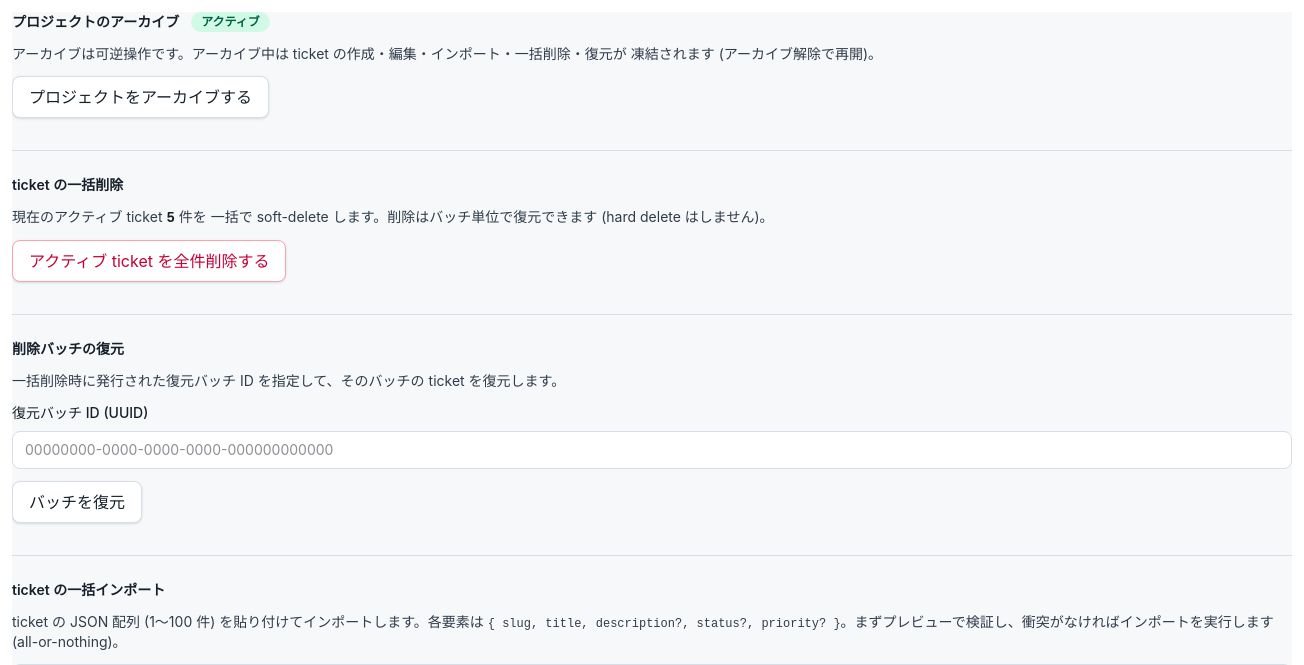
DataManagementPanel (Q-2〜Q-4 / ADR-00037) › requires a second confirmation step before archiving (two-stage)
Expected: the button "アーカイブを確定" is not shown
Click the button "プロジェクトをアーカイブする" at point(140, 97), box [12,76,269,118]
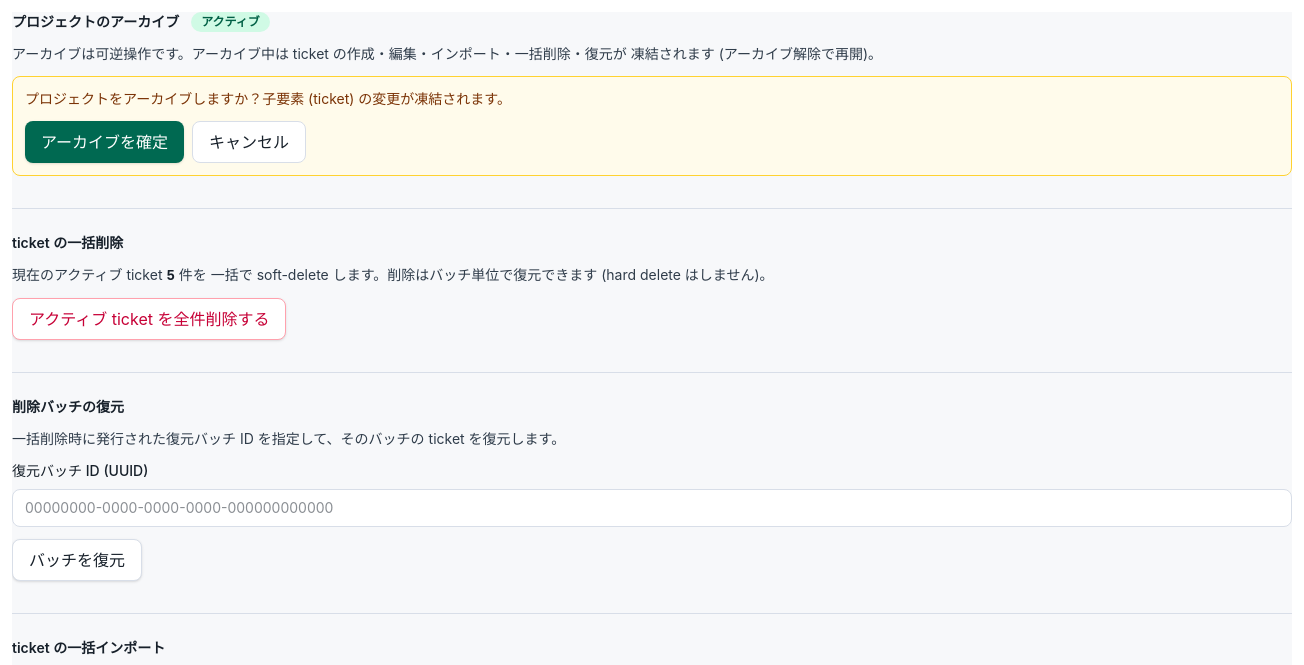
Result: the button "アーカイブを確定" is shown at [25,121,184,163]
Result: the button "キャンセル" is shown at [192,121,306,163]
